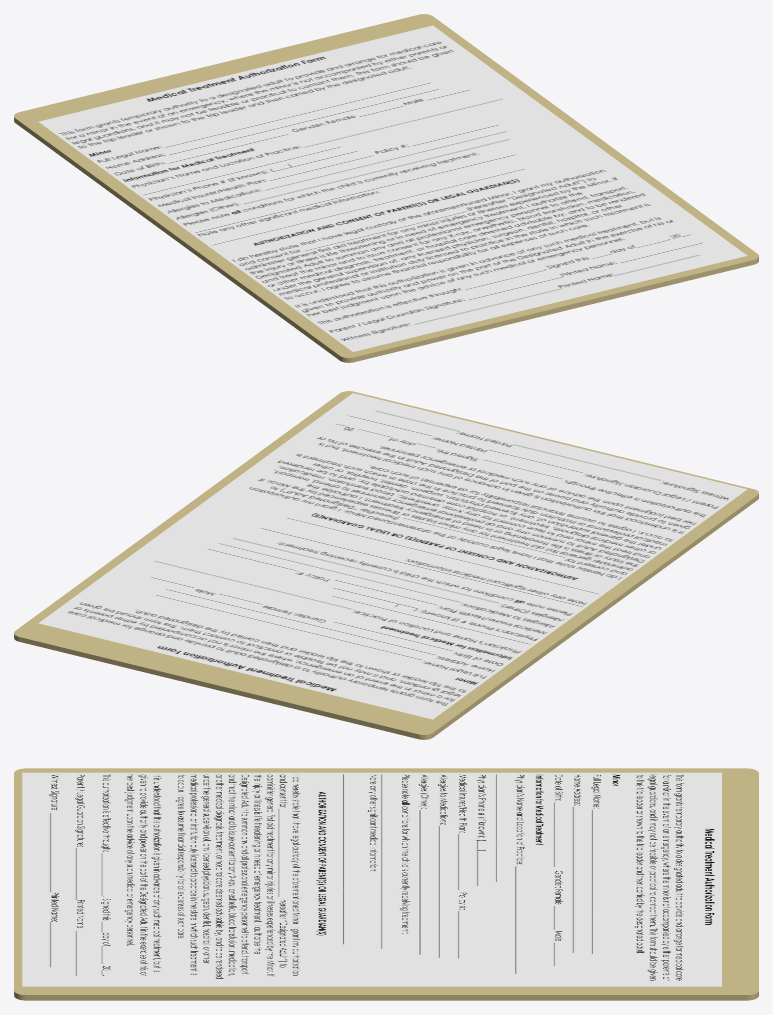
Rendered from ClipboardBase.fbx.
The picture shows the model from 3 angles, top to bottom: view 1: azimuth 30°, elevation 25°; view 2: azimuth 150°, elevation 25°; view 3: azimuth 270°, elevation 25°; orthographic projection. The views are drawn at different scales.
Visible parts, largest first — view 1: Plane_1; view 2: Plane_1; view 3: Plane_1.
Part boxes in pixels (bbox=[...]): Plane_1: bbox=[14, 14, 758, 362]; Plane_1: bbox=[14, 391, 758, 739]; Plane_1: bbox=[14, 768, 758, 1000].
Bounding box in the file's own units: 22.86 × 0.3596 × 31.75.
